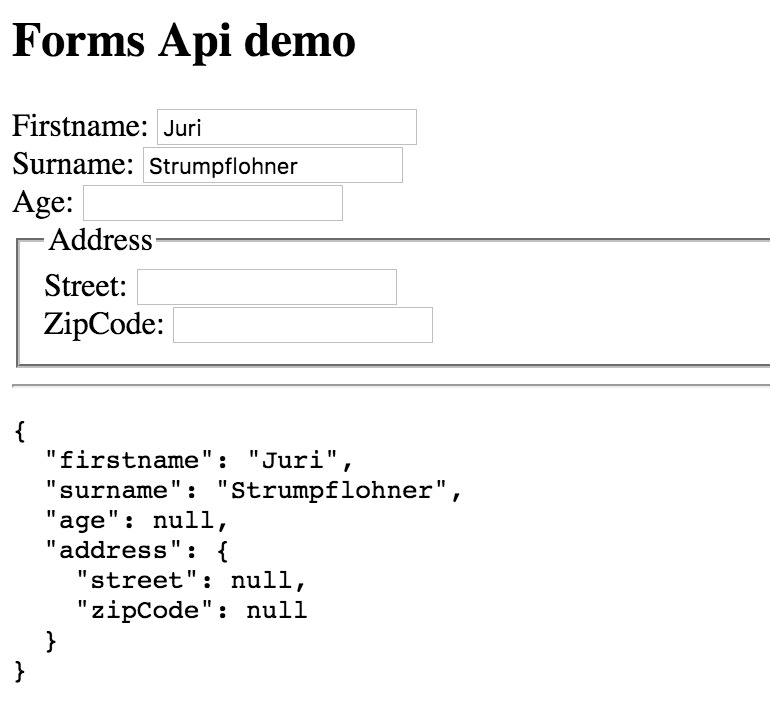_form_: (7, 16, 455, 391)
field: (152, 107, 421, 147), (139, 145, 406, 185), (167, 306, 437, 345), (78, 184, 344, 223), (132, 268, 401, 306)
field_with_label: (10, 104, 424, 150), (12, 144, 409, 187), (42, 303, 439, 346), (44, 266, 401, 307), (14, 183, 346, 225)
